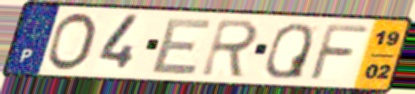4: (97, 12, 141, 76)
E: (148, 17, 216, 76)
F: (306, 22, 372, 83)
O: (43, 11, 99, 73)
Q: (262, 21, 315, 81)
R: (197, 17, 262, 80)
